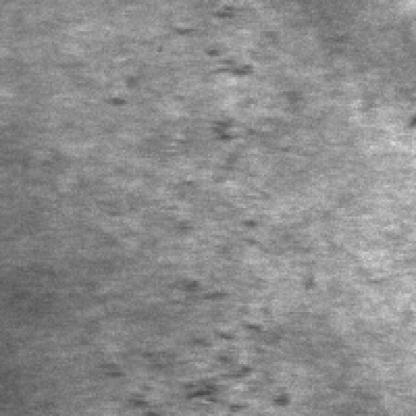rolled-in_scale: (81, 272, 285, 412), (166, 0, 258, 189)
